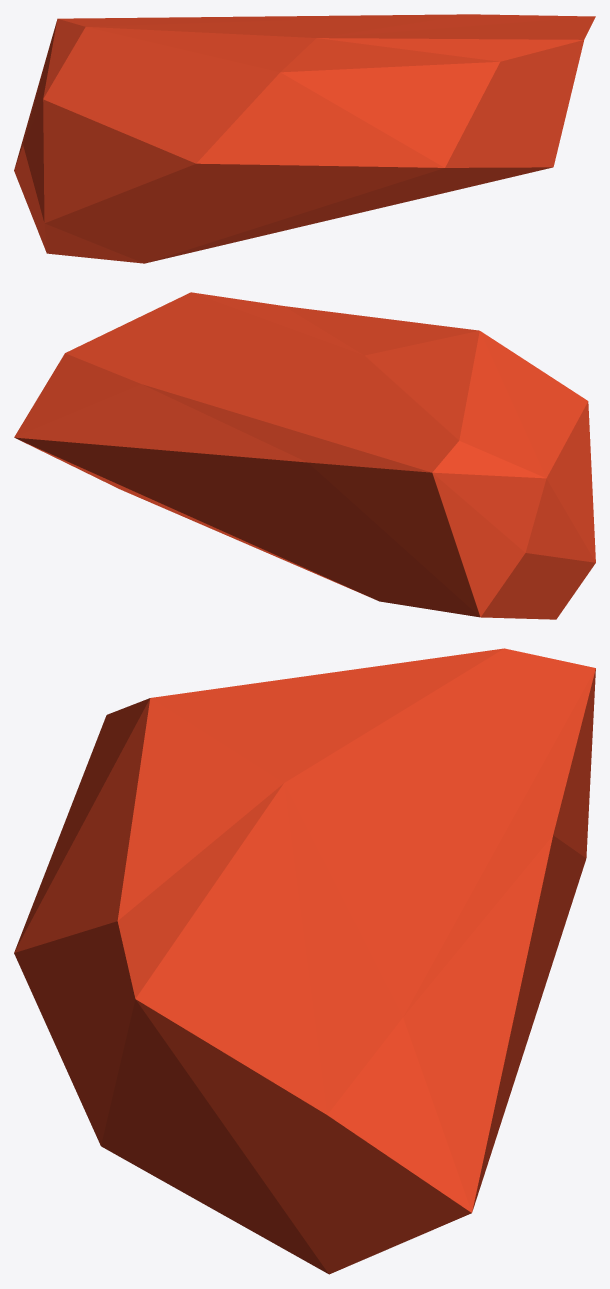
The model's file is Natures2Icosphere.034.fbx.
3 renders of one model, top to bottom at view 1: azimuth 30°, elevation 25°; view 2: azimuth 150°, elevation 25°; view 3: azimuth 270°, elevation 25°, orthographic. The views are drawn at different scales.
Visible parts, largest first — view 1: Icosphere.034; view 2: Icosphere.034; view 3: Icosphere.034.
Boxes of the visible parts, x1=… form: Icosphere.034: x1=14, y1=14, x2=595, y2=263; Icosphere.034: x1=14, y1=292, x2=595, y2=619; Icosphere.034: x1=14, y1=648, x2=595, y2=1274.
Bounding box in the file's own units: 517 × 178 × 286.
